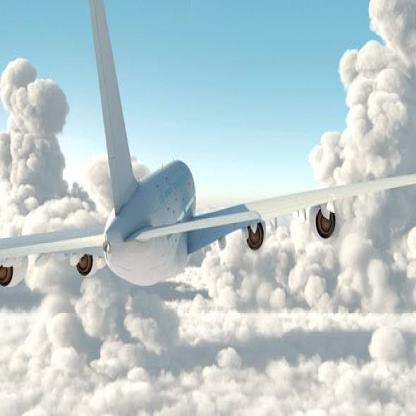CIV_Plane: (1, 0, 415, 286)
